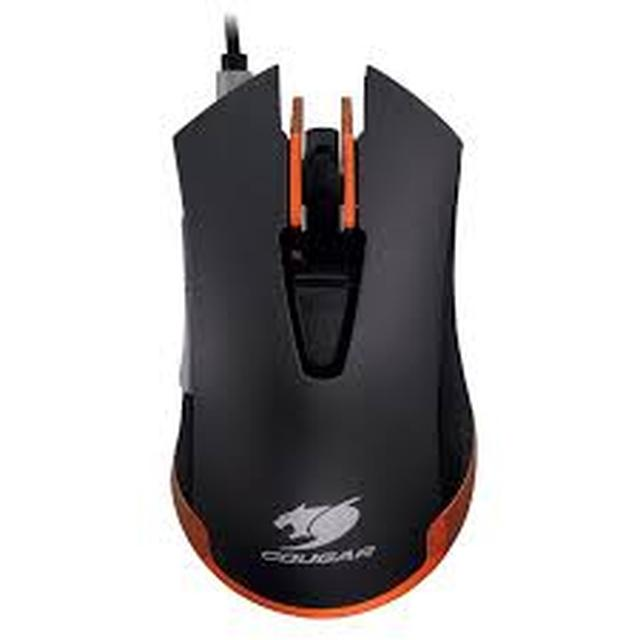mouse: (132, 48, 509, 632)
